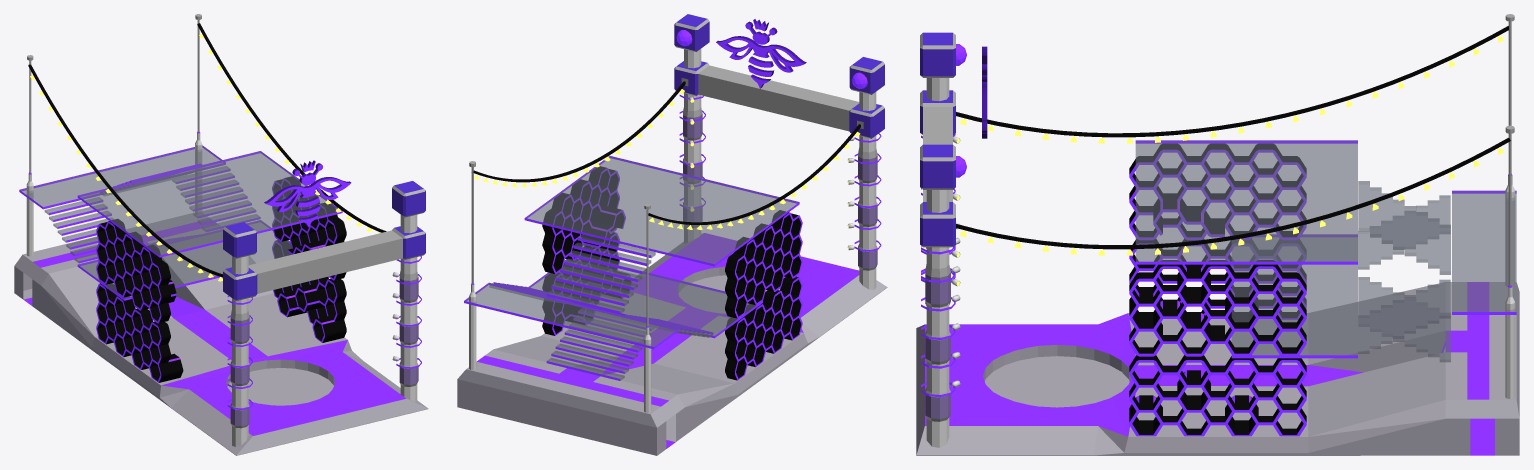
Rendered from Decentraland Arena8dboz.glb.
3 renders of one model, left to right at view 1: azimuth 30°, elevation 25°; view 2: azimuth 150°, elevation 25°; view 3: azimuth 270°, elevation 25°, orthographic. The views are drawn at different scales.
Visible parts, largest first — view 1: Cube, HoneyComb.002, Cube.006, Cube.001, Cube.008, Cube.010, Cylinder.001, Cylinder.003, Walkway.002, Walkway.003, Purple Bee Logo, Cube.002 (+9 smaller); view 2: Cube, HoneyComb.002, Cube.006, Cube.008, Cube.001, Cube.010, Walkway.004, Walkway.001, Cylinder.003, Cylinder.001, Purple Bee Logo, Cube.007 (+9 smaller); view 3: Cube, HoneyComb.002, Cube.006, Cube.008, Cube.010, Cylinder.001, Walkway.001, Walkway.004, Walkway.002, Walkway.003, Cube.007, Cube.002 (+6 smaller).
Part boxes in pixels (bbox=[...]): Cube: bbox=[14, 213, 428, 455]; HoneyComb.002: bbox=[96, 176, 346, 382]; Cube.006: bbox=[77, 151, 342, 257]; Cube.001: bbox=[248, 226, 425, 293]; Cube.008: bbox=[77, 220, 291, 300]; Cube.010: bbox=[19, 145, 225, 209]; Cylinder.001: bbox=[399, 214, 418, 401]; Cylinder.003: bbox=[230, 256, 249, 446]; Walkway.002: bbox=[172, 166, 260, 231]; Walkway.003: bbox=[44, 197, 113, 263]; Purple Bee Logo: bbox=[264, 160, 351, 227]; Cube.002: bbox=[28, 64, 222, 281]; Cube: bbox=[457, 233, 887, 455]; HoneyComb.002: bbox=[542, 166, 802, 380]; Cube.006: bbox=[524, 156, 799, 266]; Cube.008: bbox=[528, 257, 762, 338]; Cube.001: bbox=[674, 61, 859, 131]; Cube.010: bbox=[464, 282, 678, 349]; Walkway.004: bbox=[546, 234, 655, 313]; Walkway.001: bbox=[546, 308, 654, 380]; Cylinder.003: bbox=[858, 92, 877, 289]; Cylinder.001: bbox=[683, 49, 702, 243]; Purple Bee Logo: bbox=[716, 19, 806, 88]; Cube.007: bbox=[473, 81, 685, 187]; Cube: bbox=[916, 282, 1519, 455]; HoneyComb.002: bbox=[1129, 144, 1306, 436]; Cube.006: bbox=[1135, 140, 1357, 264]; Cube.008: bbox=[1231, 234, 1357, 358]; Cube.010: bbox=[1452, 190, 1516, 314]; Cylinder.001: bbox=[925, 190, 950, 447]; Walkway.001: bbox=[1358, 277, 1450, 362]; Walkway.004: bbox=[1358, 181, 1450, 274]; Walkway.002: bbox=[1358, 279, 1450, 353]; Walkway.003: bbox=[1358, 195, 1450, 269]; Cube.007: bbox=[956, 138, 1510, 255]; Cube.002: bbox=[956, 26, 1508, 143].
Size of what is drawn, in the model's own units: 16 by 20.02 by 32.
